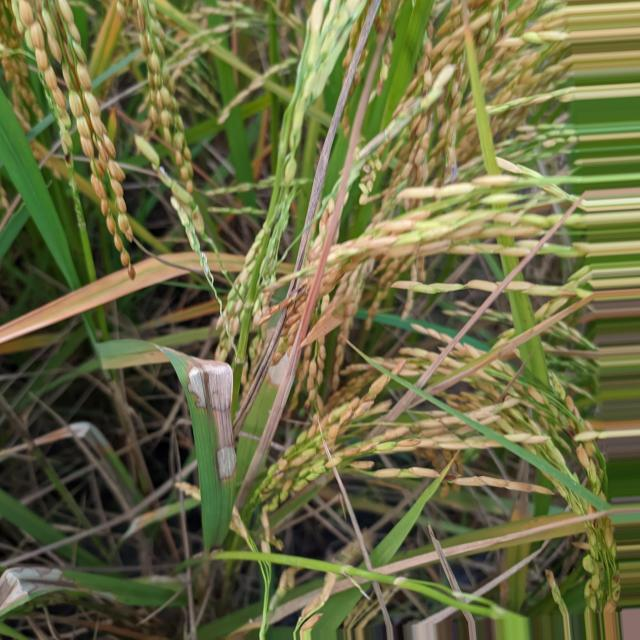Leaf_Blast: (235, 279, 320, 508), (427, 295, 593, 395), (0, 258, 188, 342), (160, 251, 202, 271), (220, 254, 245, 272)
Rice False Smut: (188, 359, 237, 480), (0, 568, 77, 615)
